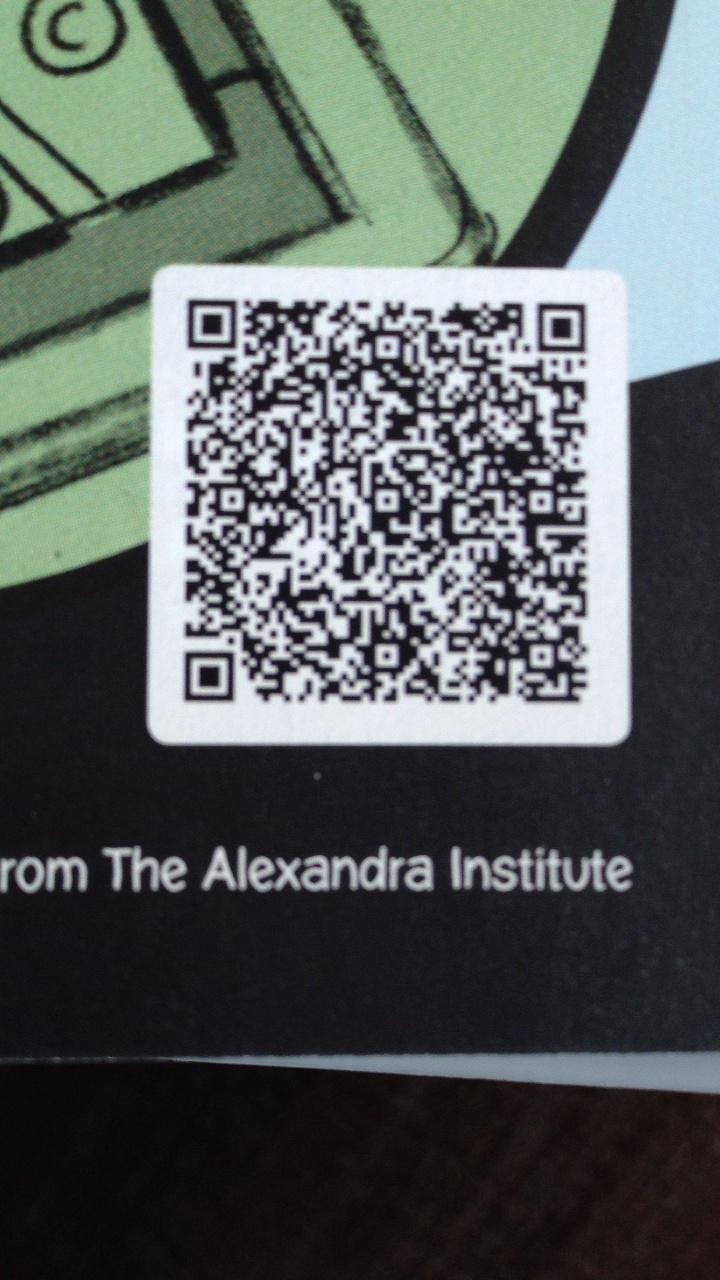qr_code: (185, 297, 587, 703)
